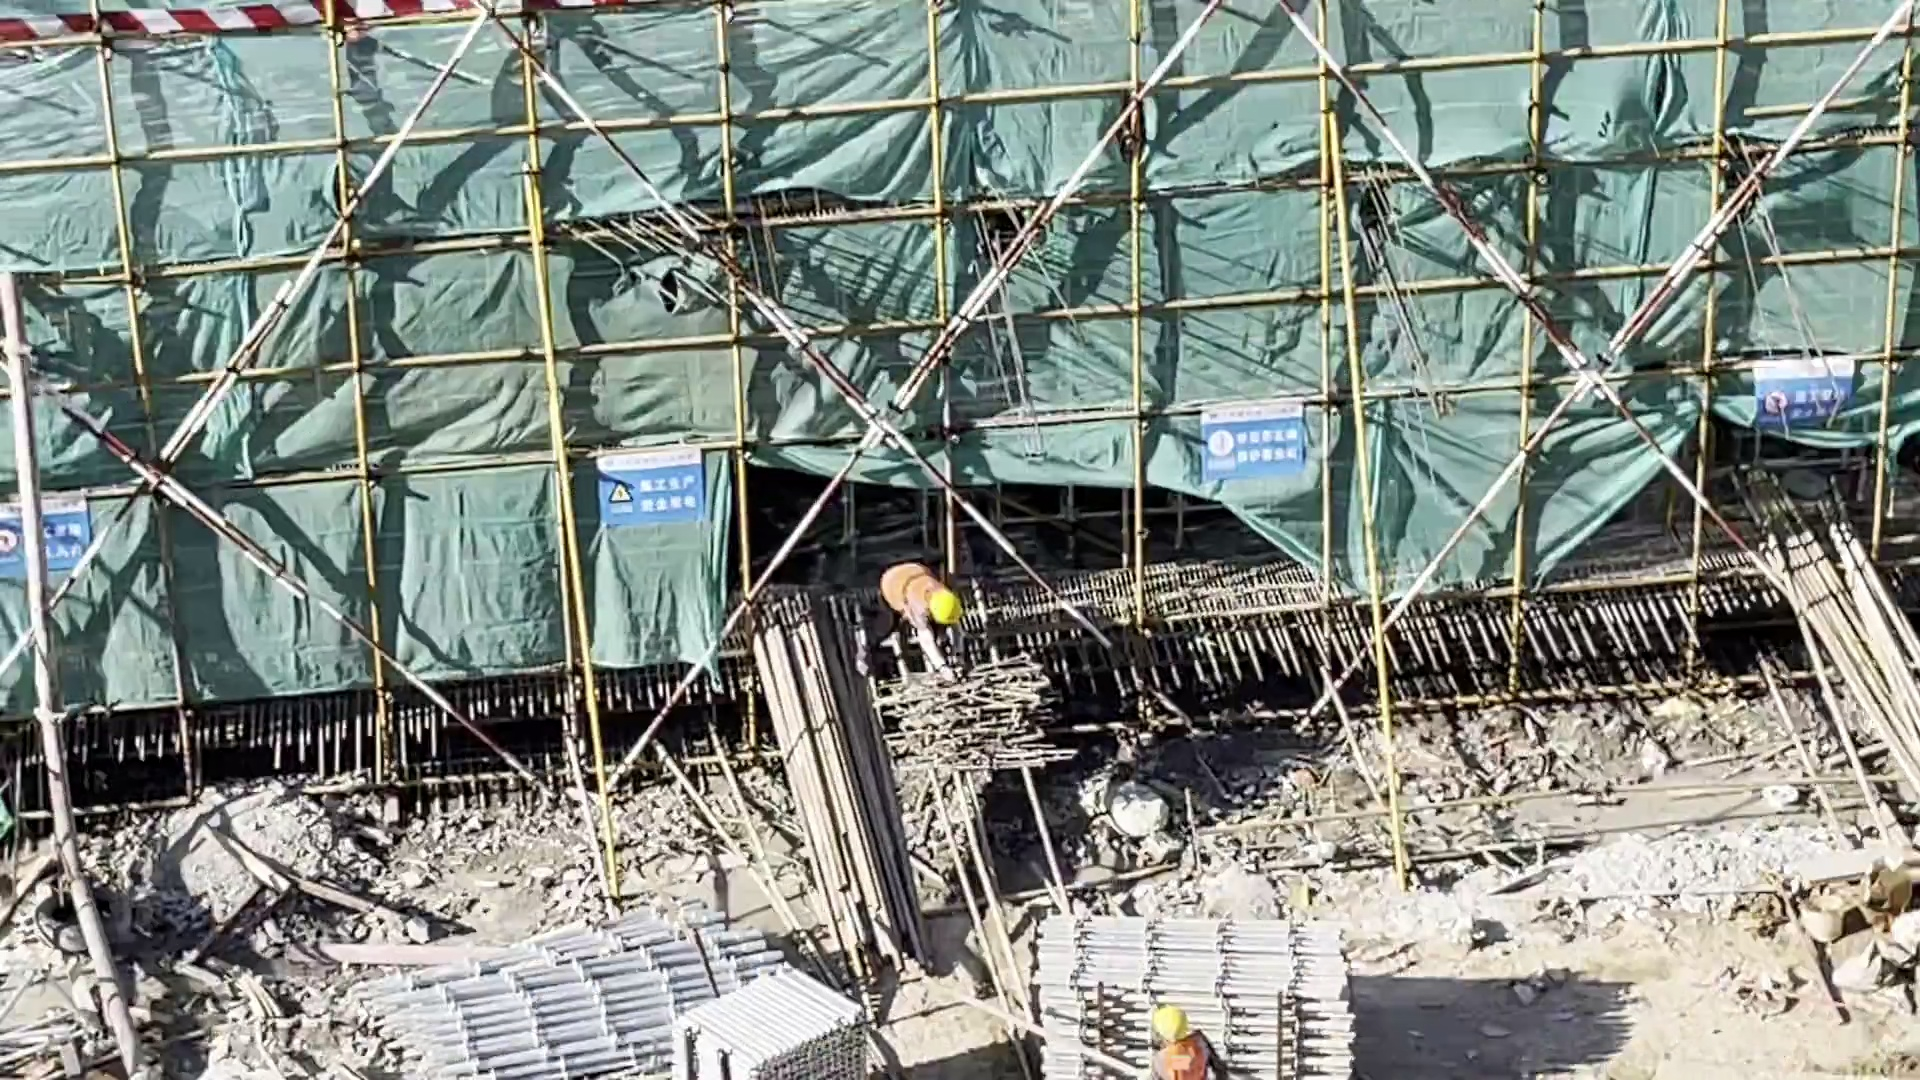helmet: (1137, 1001, 1196, 1046), (926, 589, 969, 635)
person: (856, 549, 977, 685), (1136, 997, 1233, 1080)
scaffold: (1021, 877, 1372, 1080), (343, 922, 788, 1080), (658, 936, 878, 1080)
slogan: (1195, 388, 1339, 488), (592, 431, 704, 532), (1, 491, 121, 579), (1751, 354, 1854, 439)
vest: (878, 552, 933, 620), (1158, 1041, 1203, 1080)
